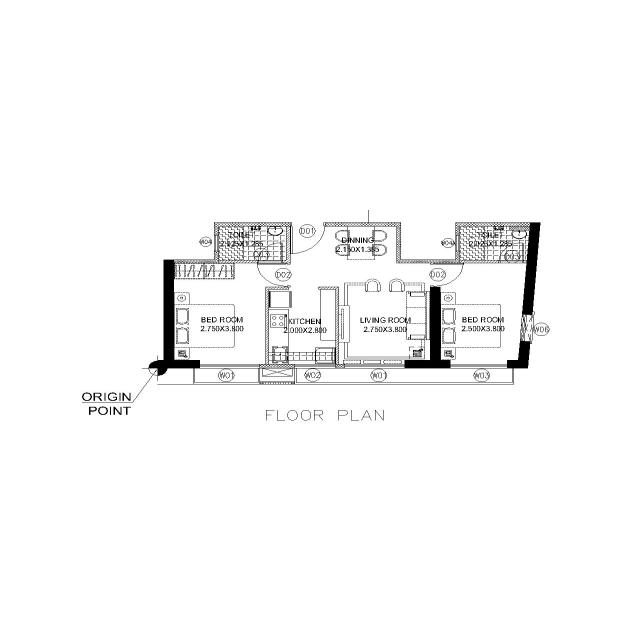Column: (517, 222, 542, 369), (162, 258, 175, 362), (429, 286, 442, 361), (404, 359, 451, 368), (163, 359, 201, 369), (507, 359, 529, 368)
Door: (429, 262, 439, 288), (285, 262, 291, 288), (290, 222, 326, 226), (256, 260, 284, 264), (498, 260, 524, 264)
Ventilator: (213, 235, 220, 252), (455, 235, 461, 252)
Window: (344, 363, 406, 369), (519, 314, 532, 342), (294, 363, 337, 369), (199, 364, 261, 368), (450, 364, 508, 368)
